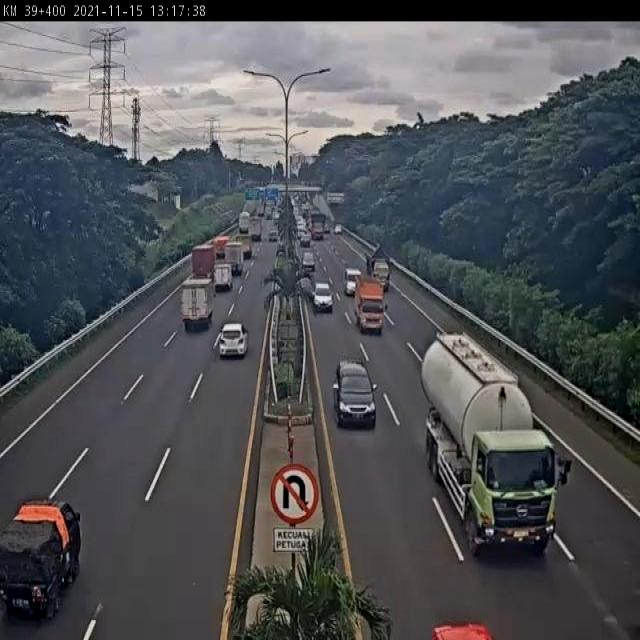Car: (1, 496, 83, 619), (332, 357, 379, 431), (218, 322, 249, 358), (312, 281, 334, 314), (343, 268, 361, 297), (301, 252, 316, 273), (300, 231, 312, 247), (268, 228, 278, 243), (272, 210, 280, 222), (334, 224, 342, 235), (324, 222, 331, 234), (266, 207, 272, 220)
Truck: (408, 324, 574, 565), (178, 273, 222, 338), (353, 273, 386, 335), (191, 244, 216, 284), (224, 241, 246, 277), (370, 257, 391, 293), (213, 262, 233, 292), (212, 236, 230, 262), (248, 217, 262, 242), (238, 211, 250, 234)
